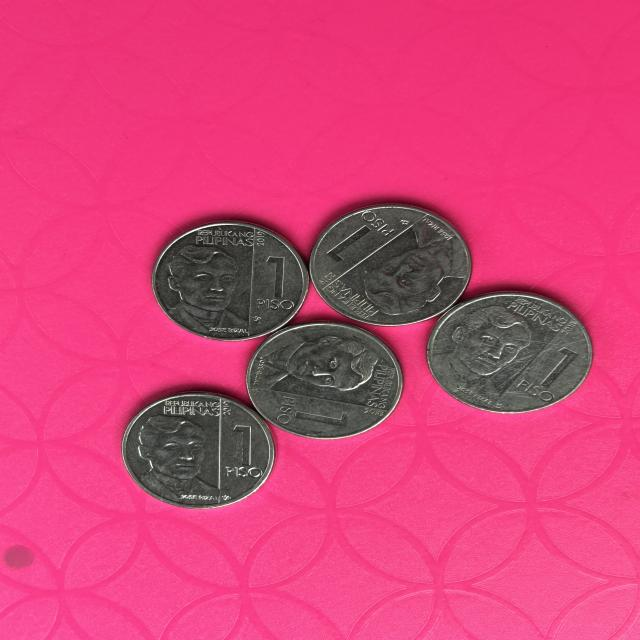1_New_Front: (314, 212, 396, 268), (516, 333, 580, 400), (271, 390, 360, 433), (219, 421, 276, 488), (245, 249, 295, 320)
